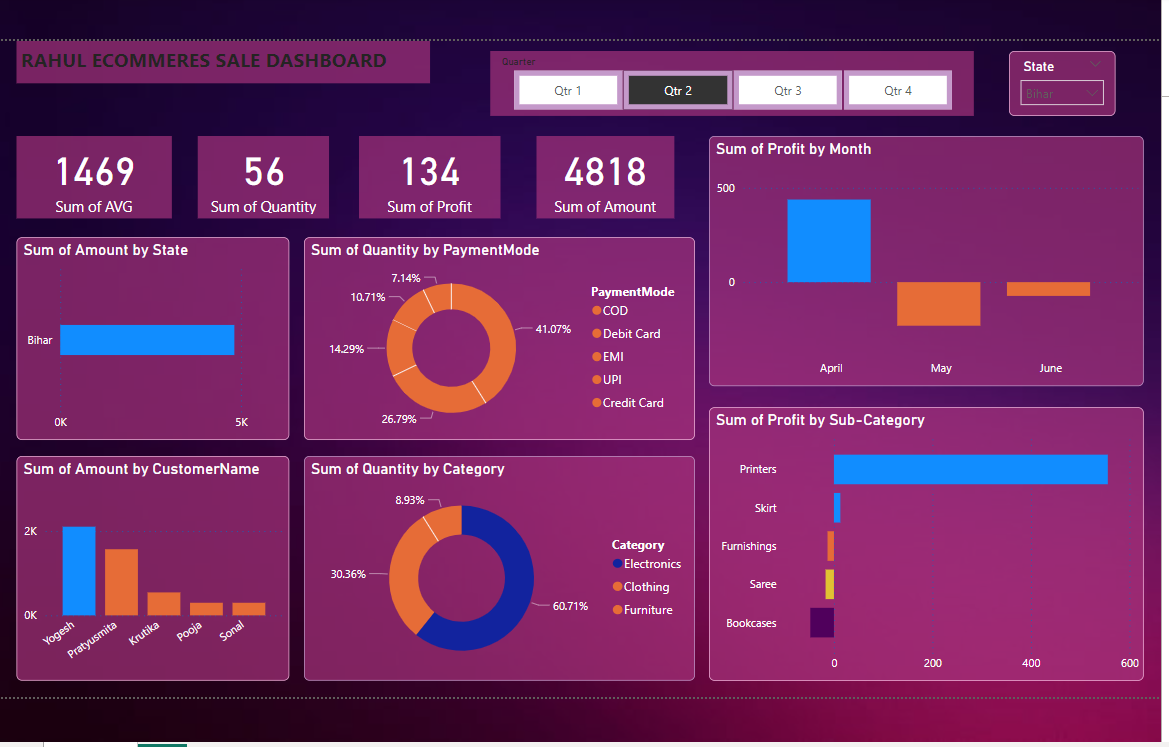

The dashboard page shown, as its layout file describes it:
{"tool":"powerbi","page":{"name":"Page 1","canvas":[1280,720],"ordinal":0},"visuals":[{"type":"columnChart","fields":{"Y":["Details.Profit"],"Category":["Orders.Order Date.Variation.Date Hierarchy.Month"]},"box":[784.2,104.2,477.1,274.2],"z":0},{"type":"textbox","box":[24.7,0,453.8,46.6],"z":1000},{"type":"barChart","fields":{"Category":["Details.Sub-Category","Details.Profit"],"Y":["Details.Profit"]},"box":[784.2,401.7,477.1,300.3],"z":2000},{"type":"donutChart","fields":{"Category":["Details.Category"],"Y":["Details.Quantity"]},"box":[340,455.2,429.1,246.8],"z":3000},{"type":"donutChart","fields":{"Category":["Details.PaymentMode"],"Y":["Details.Quantity"]},"box":[340,215.3,429.1,222.1],"z":4000},{"type":"card","fields":{"Values":["Details.Amount"]},"box":[595,104.2,150.8,90.5],"z":5000},{"type":"card","fields":{"Values":["Details.AVG"]},"box":[24.7,104.2,170,90.5],"z":6000},{"type":"card","fields":{"Values":["Details.Quantity"]},"box":[223.5,104.2,144,90.5],"z":7000},{"type":"card","fields":{"Values":["Details.Profit"]},"box":[400.3,104.2,154.9,90.5],"z":8000},{"type":"waterfallChart","fields":{"Category":["Orders.State"],"Y":["Details.Amount"]},"box":[24.7,215.3,298.9,222.1],"z":9000},{"type":"columnChart","fields":{"Category":["Orders.CustomerName"],"Y":["Details.Amount"]},"box":[24.7,455.2,298.9,246.8],"z":10000},{"type":"slicer","fields":{"Values":["Orders.Order Date.Variation.Date Hierarchy.Quarter"]},"box":[544.3,11,530.6,71.3],"z":11000},{"type":"slicer","fields":{"Values":["Orders.State"]},"box":[1113.3,11,116.5,71.3],"z":12000}]}

Visuals, with their boxes in screenshot pixels (x1, y1, x2, y2):
columnChart - Details.Profit x Orders.Order Date.Variation.Date Hierarchy.Month: [x1=714, y1=179, x2=1159, y2=436]
textbox: [x1=5, y1=82, x2=429, y2=126]
barChart - Details.Sub-Category x Details.Profit: [x1=714, y1=457, x2=1159, y2=738]
donutChart - Details.Category x Details.Quantity: [x1=299, y1=507, x2=700, y2=738]
donutChart - Details.PaymentMode x Details.Quantity: [x1=299, y1=283, x2=700, y2=491]
card - Details.Amount: [x1=537, y1=179, x2=678, y2=264]
card - Details.AVG: [x1=5, y1=179, x2=164, y2=264]
card - Details.Quantity: [x1=190, y1=179, x2=325, y2=264]
card - Details.Profit: [x1=356, y1=179, x2=500, y2=264]
waterfallChart - Orders.State x Details.Amount: [x1=5, y1=283, x2=284, y2=491]
columnChart - Orders.CustomerName x Details.Amount: [x1=5, y1=507, x2=284, y2=738]
slicer - Orders.Order Date.Variation.Date Hierarchy.Quarter: [x1=490, y1=92, x2=985, y2=159]
slicer - Orders.State: [x1=1021, y1=92, x2=1130, y2=159]
